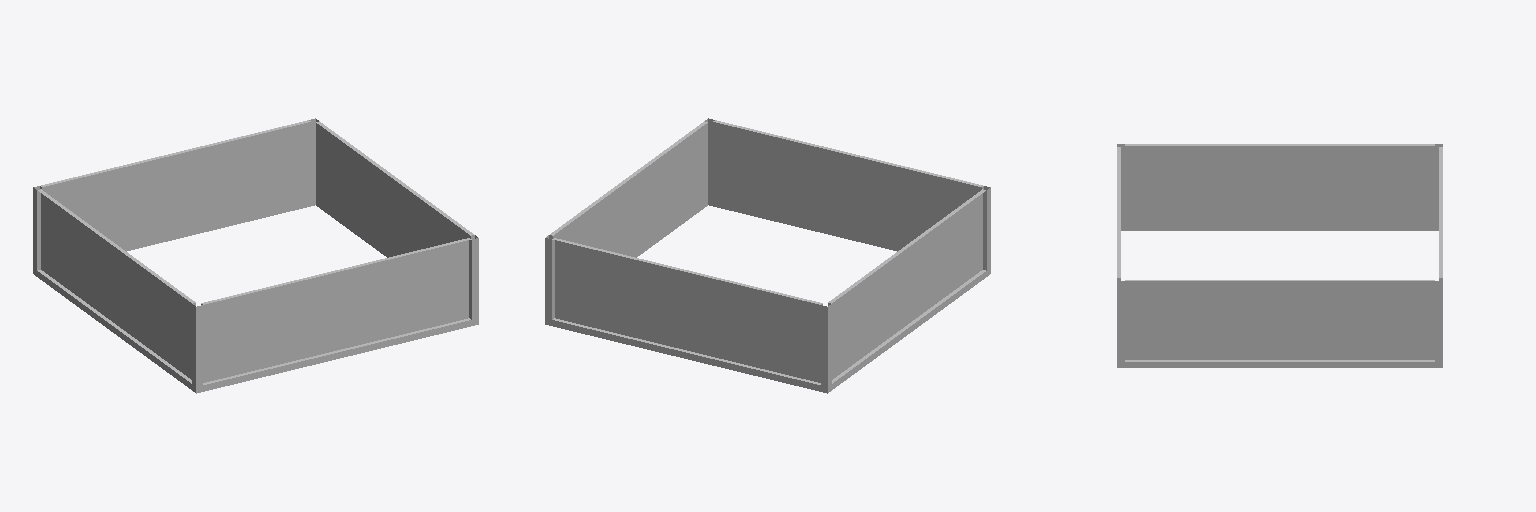
Rendered from Tower Segments - Middle.obj.
3 renders of one model, left to right at view 1: azimuth 30°, elevation 25°; view 2: azimuth 150°, elevation 25°; view 3: azimuth 270°, elevation 25°, orthographic.
Parts seen in each view (by area): view 1: Cube.001_Cube.002; view 2: Cube.001_Cube.002; view 3: Cube.001_Cube.002.
Boxes of the visible parts, box(x1,y1,x2,y2) form: Cube.001_Cube.002: box(33, 118, 478, 393); Cube.001_Cube.002: box(545, 118, 990, 393); Cube.001_Cube.002: box(1117, 144, 1442, 367).
Bounding box in the file's own units: 1.8 × 0.5296 × 1.8.